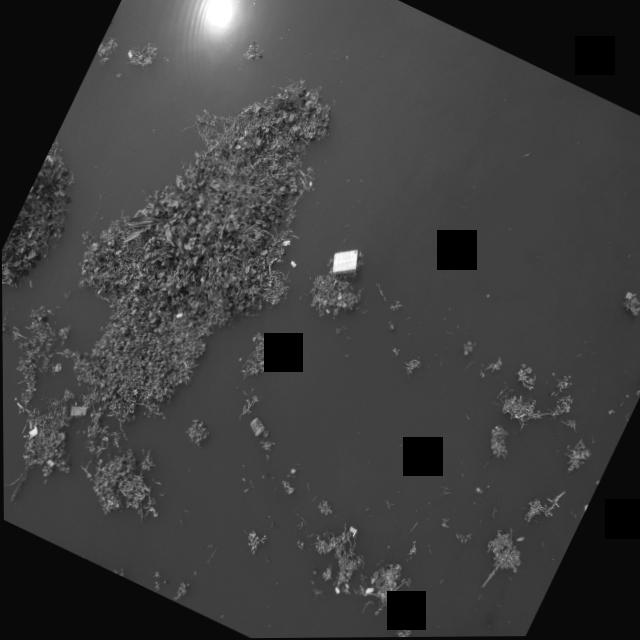plastic: (318, 231, 371, 288), (239, 405, 273, 443), (571, 494, 591, 524), (63, 399, 88, 422), (20, 421, 40, 442), (341, 520, 362, 540), (47, 357, 64, 374), (618, 287, 634, 304), (359, 582, 374, 598), (170, 306, 184, 322), (22, 414, 36, 430), (42, 455, 55, 468), (286, 256, 298, 269), (278, 236, 291, 248), (123, 46, 136, 58), (329, 583, 341, 595), (97, 431, 109, 443), (473, 591, 483, 602)
